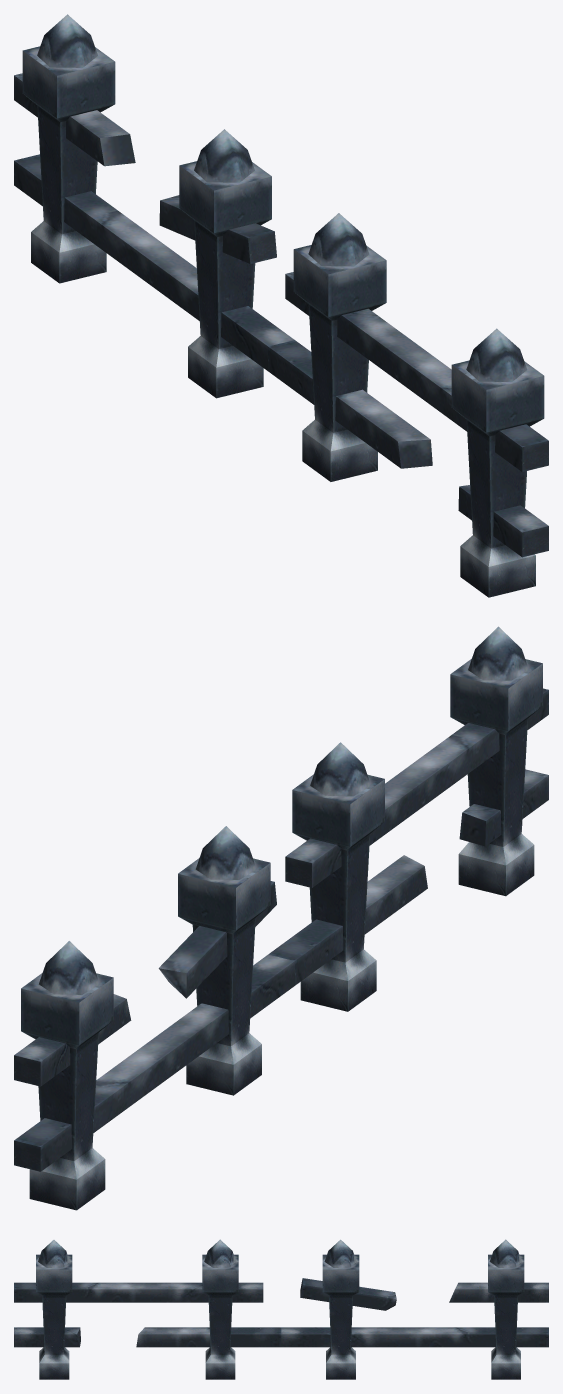
The model's file is Ice_fences02.FBX.
3 views of the same model, one above another, from view 1: azimuth 30°, elevation 25°; view 2: azimuth 150°, elevation 25°; view 3: azimuth 270°, elevation 25° (orthographic). The views are drawn at different scales.
Parts seen in each view (by area): view 1: Object15649; view 2: Object15649; view 3: Object15649.
Part boxes in pixels (box(x1,y1,x2,y2)): Object15649: box(14, 14, 548, 597); Object15649: box(14, 626, 548, 1210); Object15649: box(14, 1239, 548, 1379).
Size of the model in its own units: 31.46 by 131 by 476.
